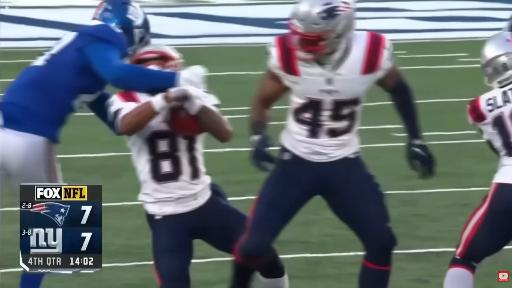Helmet: (289, 0, 354, 54), (93, 0, 150, 54), (481, 31, 511, 87), (131, 44, 183, 70), (504, 15, 511, 31)
Jersey: (268, 32, 393, 161), (0, 22, 126, 142), (128, 113, 211, 215), (468, 84, 511, 183)
Player: (235, 0, 434, 287), (0, 0, 197, 189), (109, 81, 246, 287), (444, 27, 511, 287)
